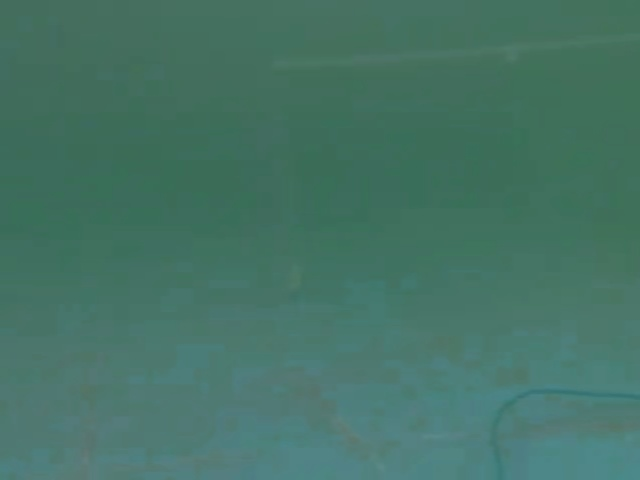gate: (251, 28, 640, 343)
